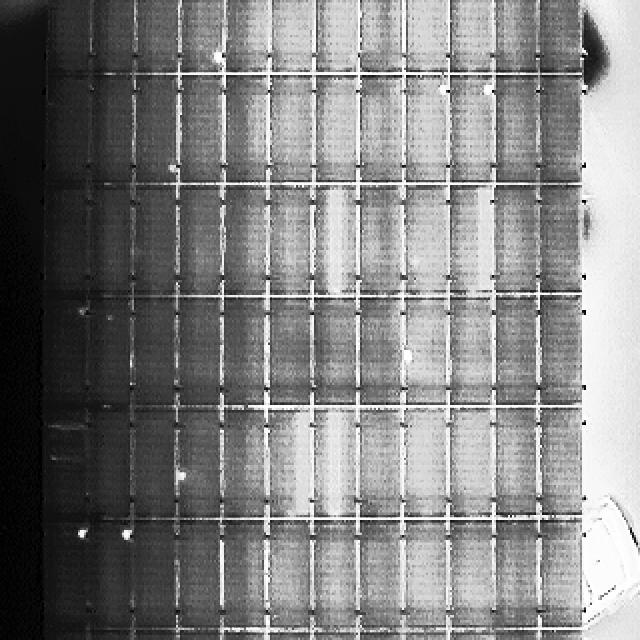Hotspots: (323, 185, 347, 301), (470, 185, 494, 296), (324, 408, 346, 526), (294, 408, 314, 524), (43, 448, 82, 466), (44, 418, 86, 433), (173, 465, 190, 487), (166, 157, 181, 175), (119, 527, 132, 543), (436, 80, 448, 97), (401, 346, 411, 366), (74, 528, 87, 543), (212, 48, 223, 63), (483, 85, 495, 98), (74, 306, 85, 319), (106, 313, 118, 322)
PV-modules: (445, 520, 495, 628), (492, 406, 540, 517), (220, 186, 268, 297), (446, 407, 494, 518), (312, 186, 360, 297), (46, 77, 94, 188), (492, 298, 540, 408), (266, 408, 314, 518), (176, 407, 224, 517), (267, 185, 314, 297), (43, 185, 90, 297), (178, 520, 226, 629), (178, 300, 226, 409), (268, 78, 316, 187), (44, 522, 92, 631), (88, 301, 135, 412), (445, 78, 493, 186), (219, 521, 267, 629), (446, 299, 494, 407), (492, 184, 539, 294), (220, 300, 267, 410), (220, 408, 267, 518), (90, 78, 137, 188), (179, 78, 226, 187), (222, 78, 269, 187), (356, 186, 402, 297), (356, 520, 402, 631), (178, 186, 224, 297), (446, 185, 492, 296), (402, 185, 448, 296), (402, 406, 448, 517), (90, 186, 136, 297), (42, 299, 88, 410), (312, 529, 360, 635), (538, 79, 585, 187), (130, 407, 176, 517), (130, 520, 176, 630), (539, 297, 585, 407), (539, 406, 585, 516), (89, 520, 135, 630), (538, 528, 586, 633), (493, 521, 540, 628), (267, 300, 313, 409), (132, 186, 177, 297), (493, 78, 539, 186), (356, 78, 402, 186), (539, 185, 585, 293), (131, 300, 176, 410), (133, 78, 178, 188), (356, 407, 401, 517), (314, 79, 361, 184), (356, 300, 402, 407), (313, 302, 360, 406), (313, 416, 360, 520), (89, 410, 134, 518), (403, 521, 448, 629), (266, 529, 312, 634), (404, 78, 448, 186), (404, 300, 448, 407), (43, 428, 90, 523), (312, 0, 360, 72), (90, 0, 138, 72), (356, 0, 402, 72), (492, 0, 538, 72), (402, 0, 448, 72), (132, 0, 178, 72), (446, 0, 492, 72), (222, 0, 268, 72), (538, 0, 584, 72), (46, 0, 92, 72), (180, 0, 224, 72), (270, 0, 314, 72), (44, 406, 90, 429)
